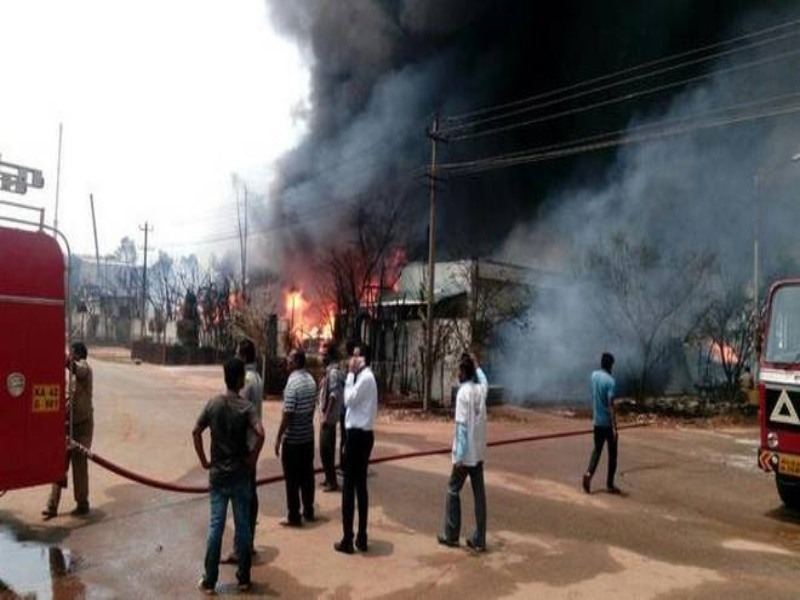smoke: (267, 1, 797, 268)
